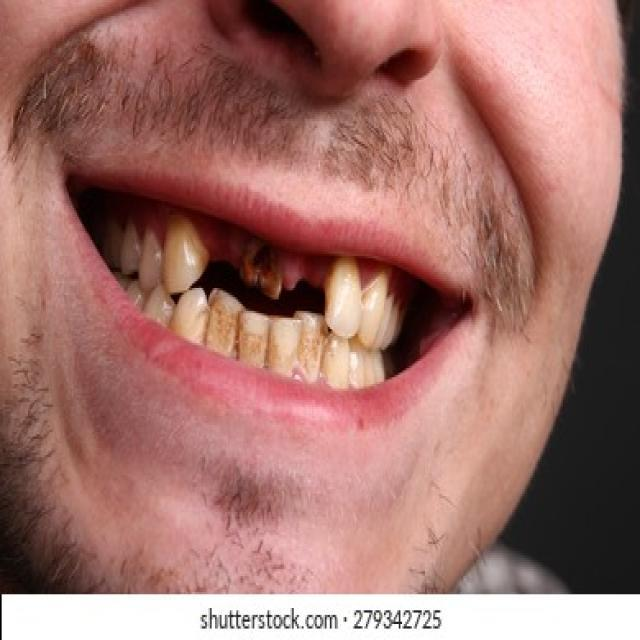Caries: (241, 240, 284, 298)
